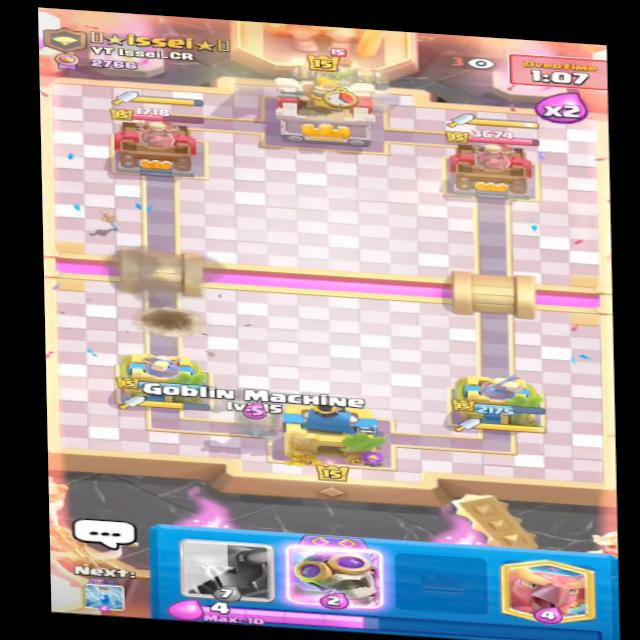goblin-machine: (286, 42, 394, 102)
